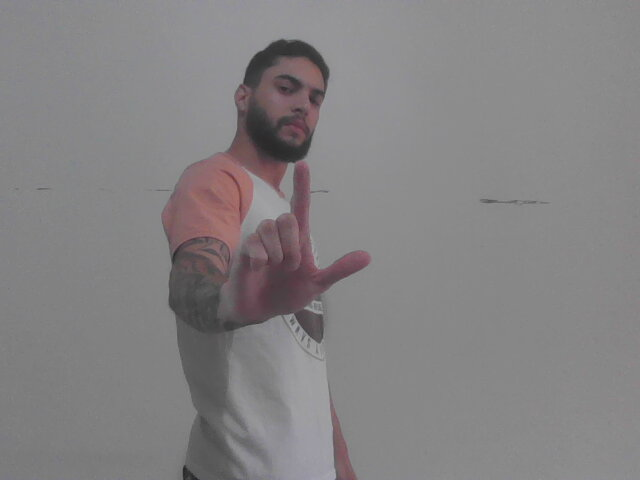l: (221, 154, 377, 330)
